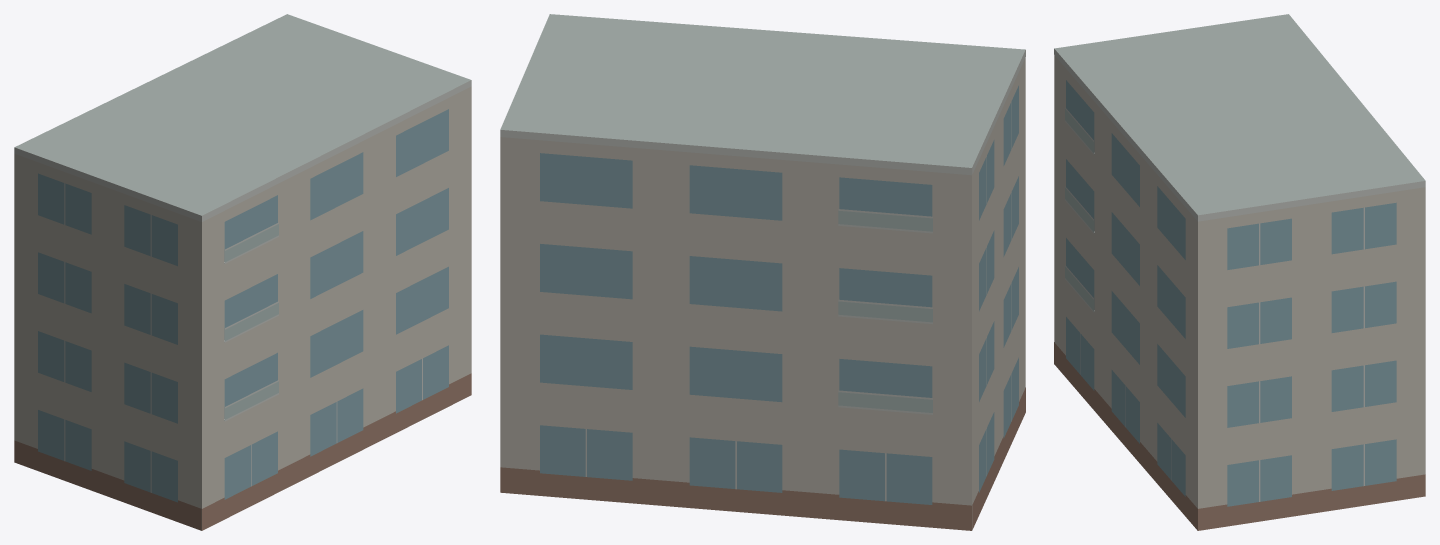
Rendered from survey-upis-32777378.glb.
The picture shows the model from 3 angles, left to right: view 1: azimuth 30°, elevation 25°; view 2: azimuth 150°, elevation 25°; view 3: azimuth 270°, elevation 25°; orthographic projection. The views are drawn at different scales.
Parts seen in each view (by area): view 1: survey-upis-32777378.tmp; view 2: survey-upis-32777378.tmp; view 3: survey-upis-32777378.tmp.
Part boxes in pixels (x1=…): survey-upis-32777378.tmp: x1=14, y1=14, x2=471, y2=530; survey-upis-32777378.tmp: x1=500, y1=14, x2=1025, y2=530; survey-upis-32777378.tmp: x1=1054, y1=14, x2=1425, y2=530.
Size of the model in its own units: 16.7 by 12.2 by 13.03.
